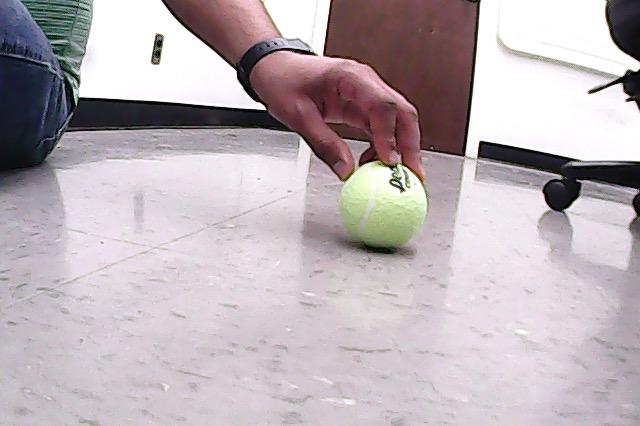ball: (336, 157, 431, 254)
